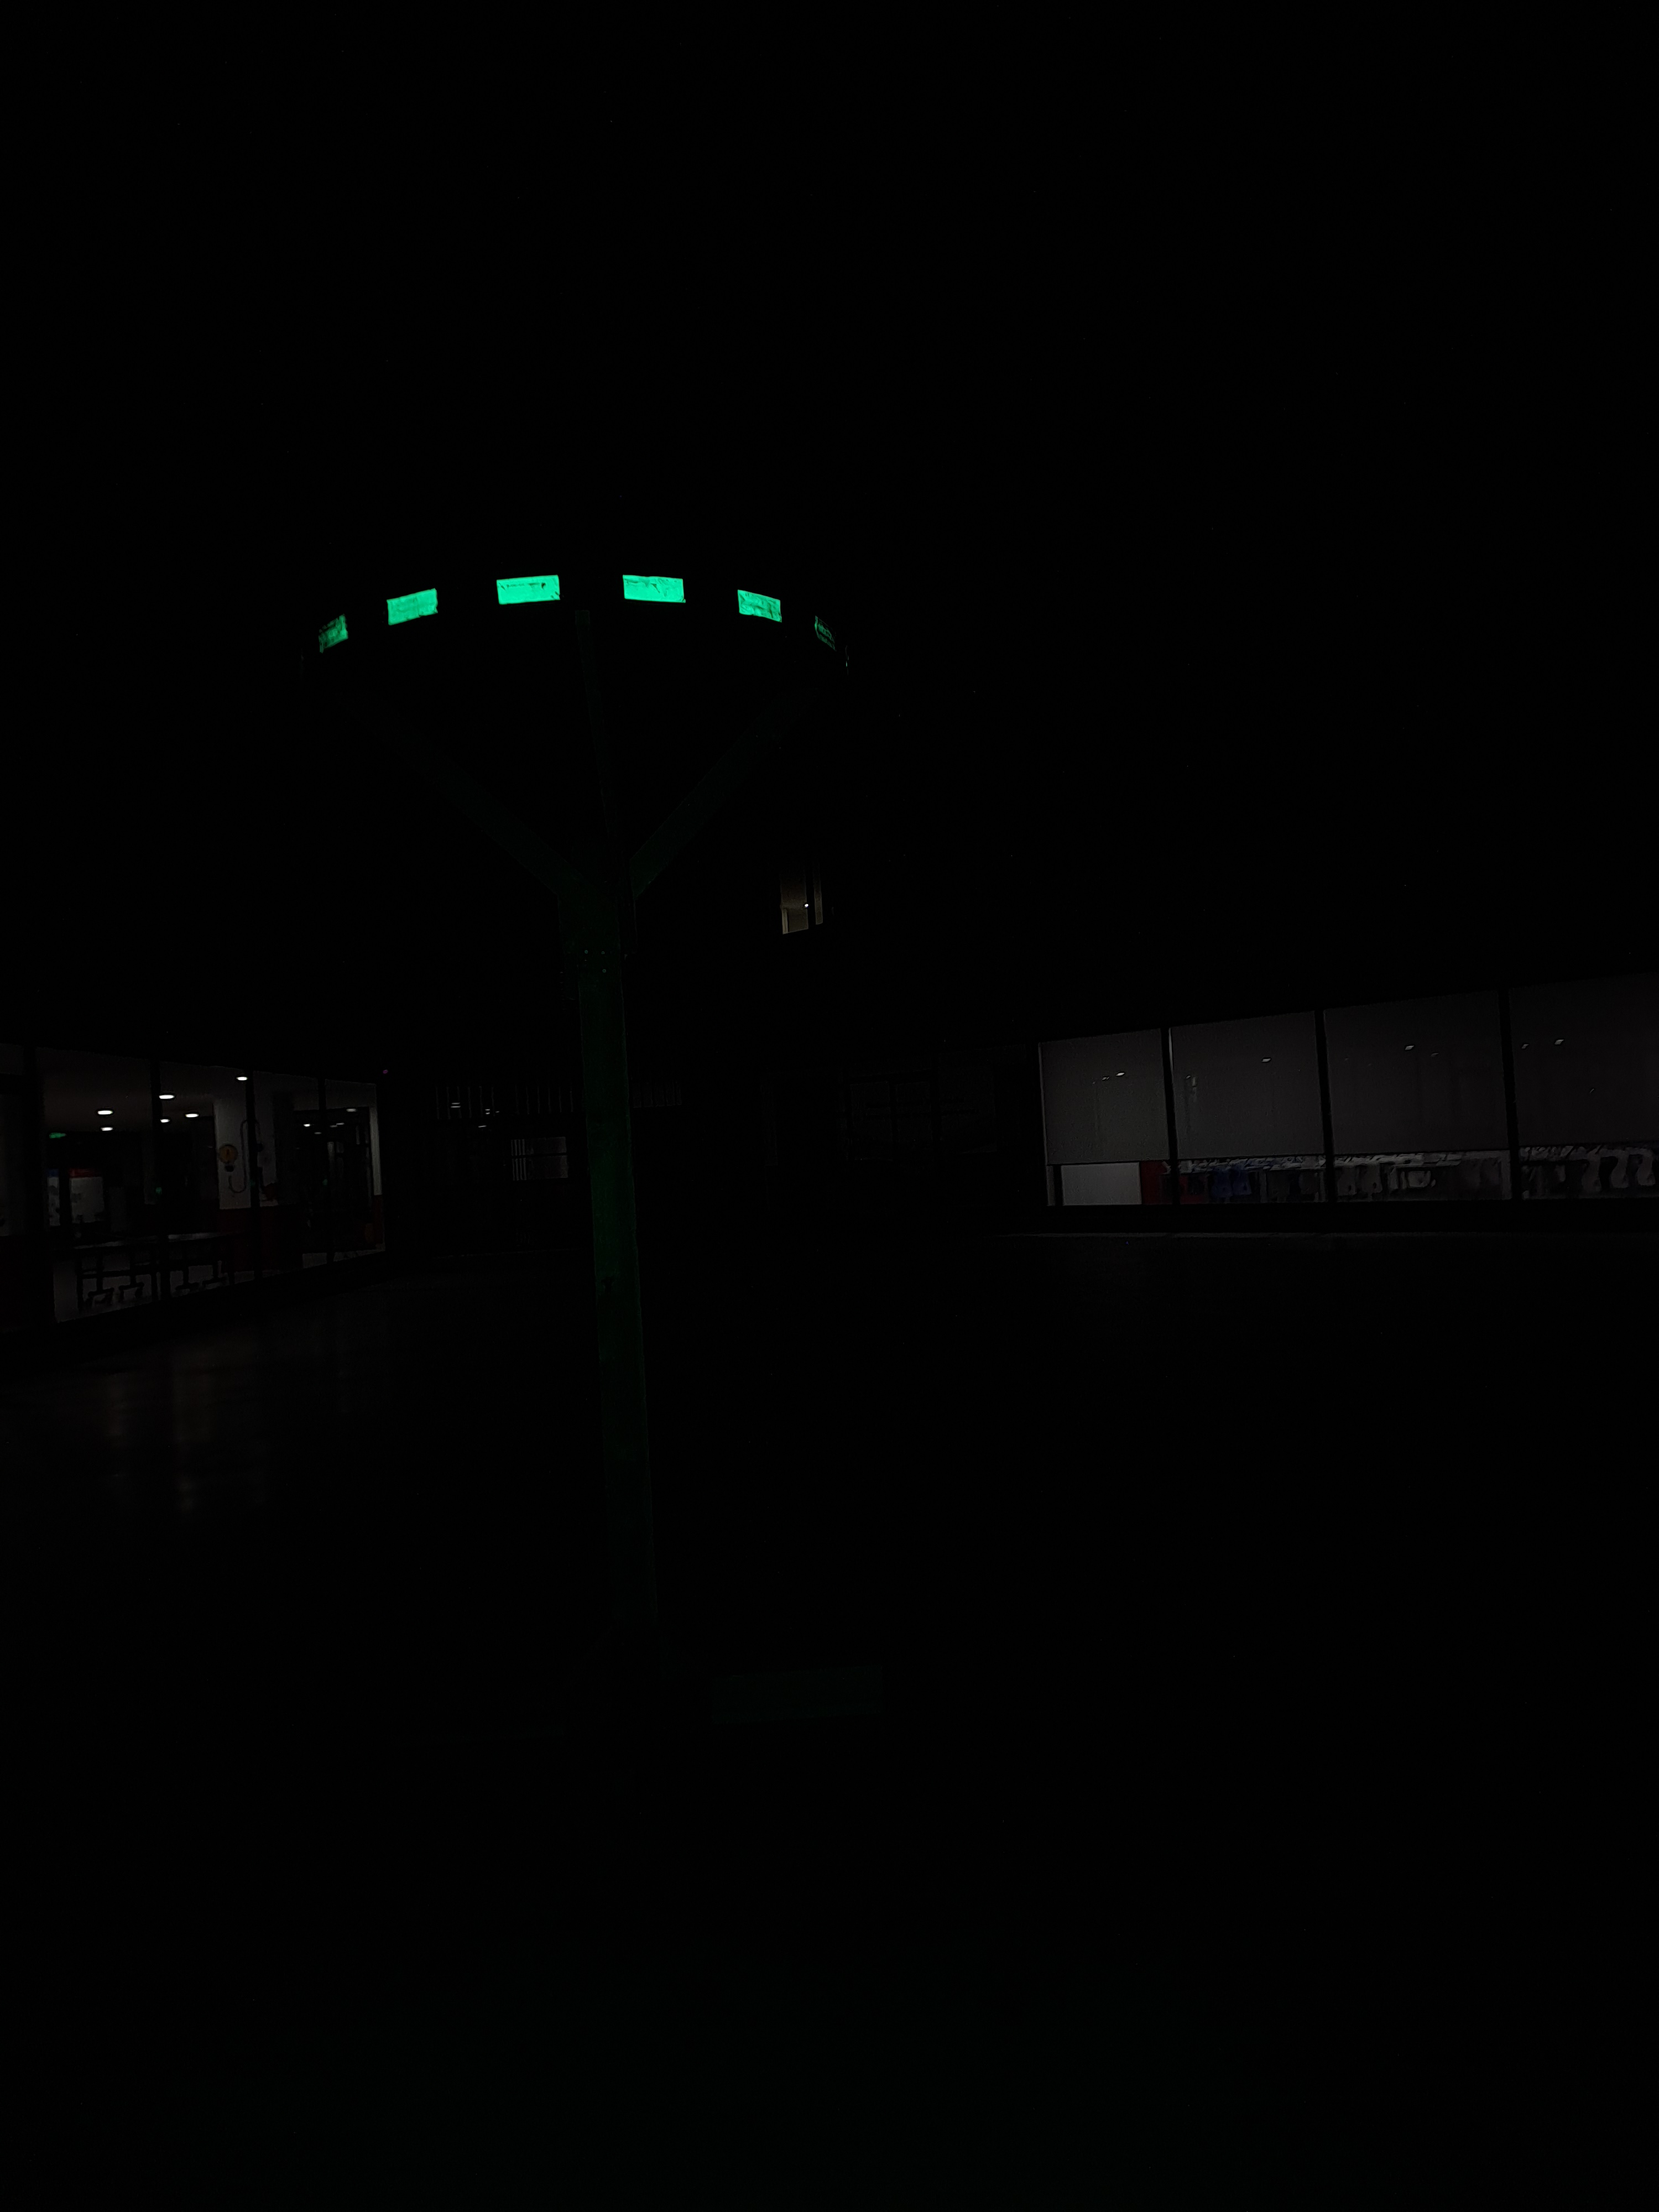hoop: (310, 550, 791, 671)
